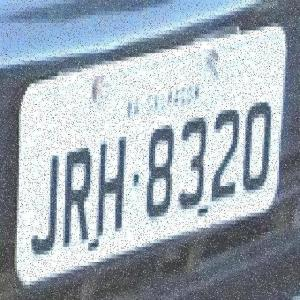Plate: (8, 16, 294, 285)
